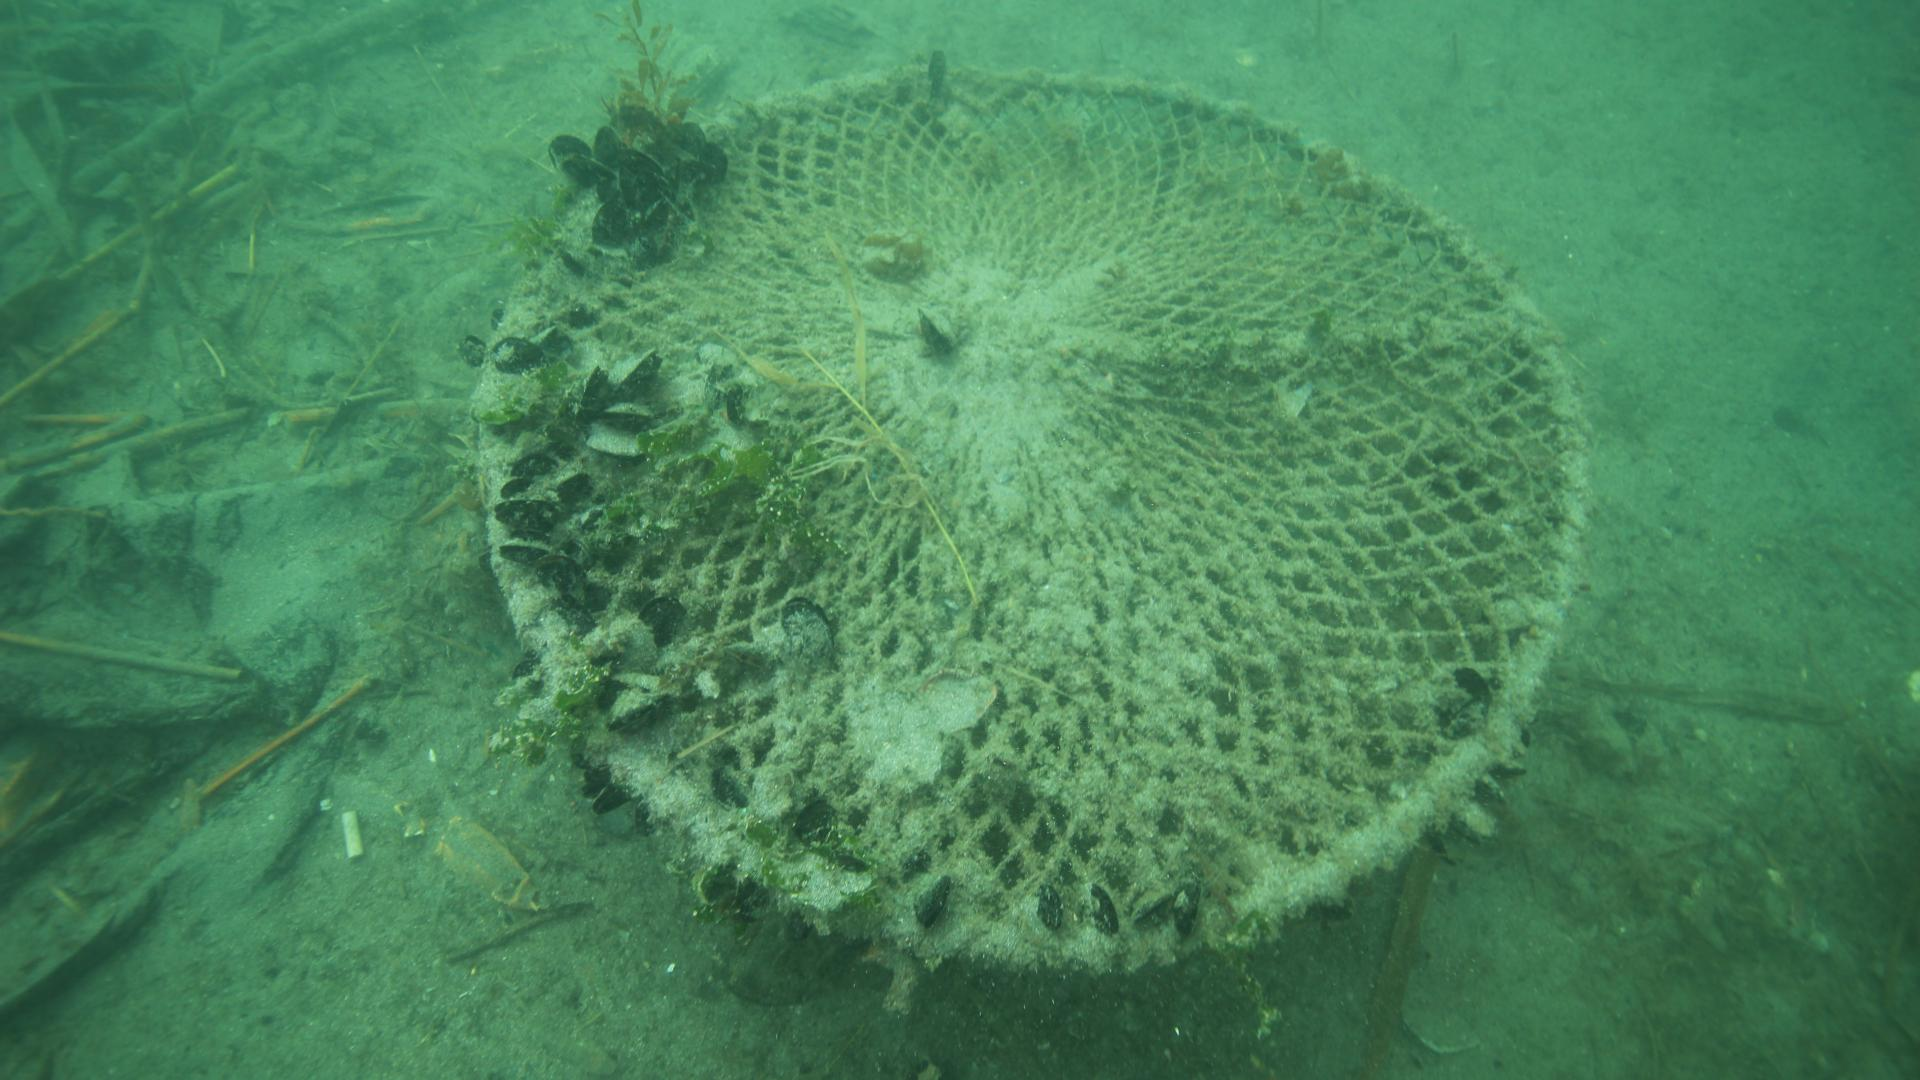circular fish trap: (473, 58, 1594, 971)
